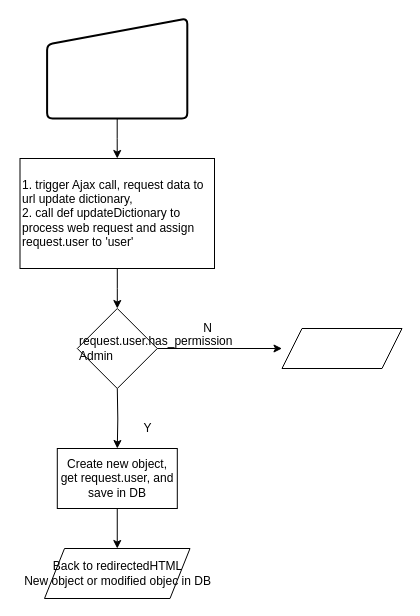
Some shapes in this 420 by 616 pixel diagram are drawn without their labels. Each missing label, with the centre of its shape:
dclick table cell where th is Class or Description, edite and press enter: pixel 117 68
Warning on HTML: pixel 341 348
